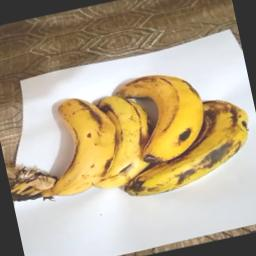Banana Unripe: (114, 62, 212, 169), (42, 90, 120, 196), (88, 84, 156, 187)
